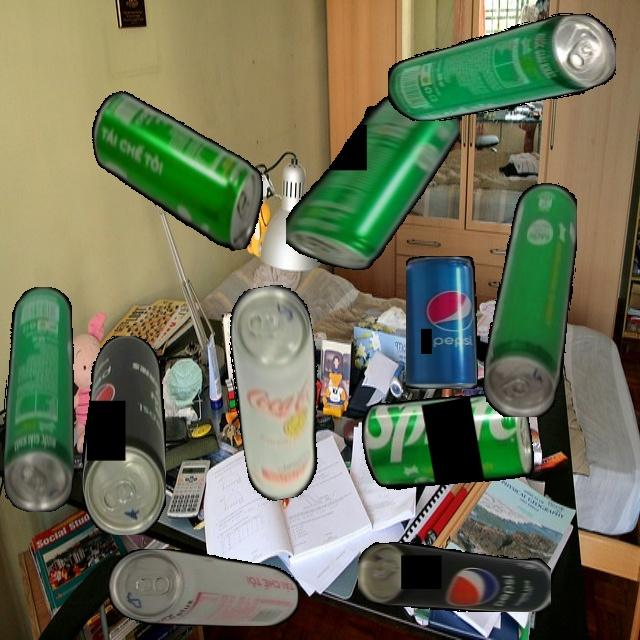debris: (85, 70, 273, 271), (285, 95, 460, 270), (356, 378, 543, 532), (217, 280, 340, 504), (387, 13, 616, 121), (482, 182, 577, 417), (81, 335, 166, 535), (1, 286, 74, 512), (109, 548, 299, 626), (358, 541, 551, 612), (405, 256, 477, 389)
